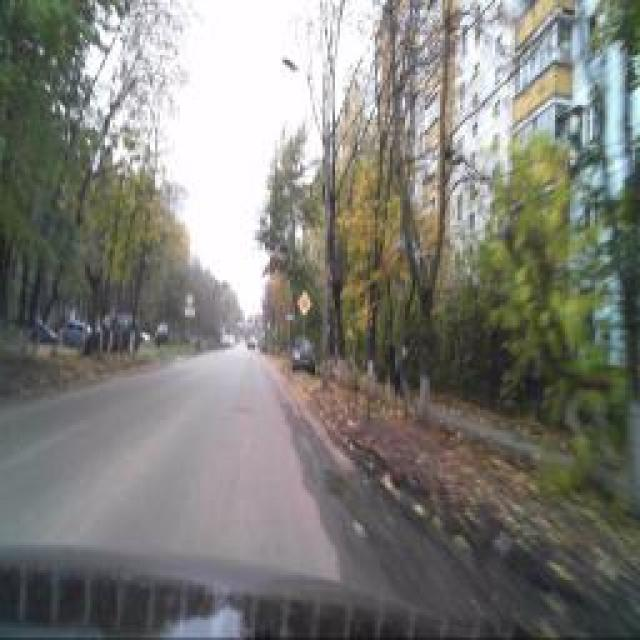sign: (299, 290, 311, 318), (186, 292, 194, 308)
